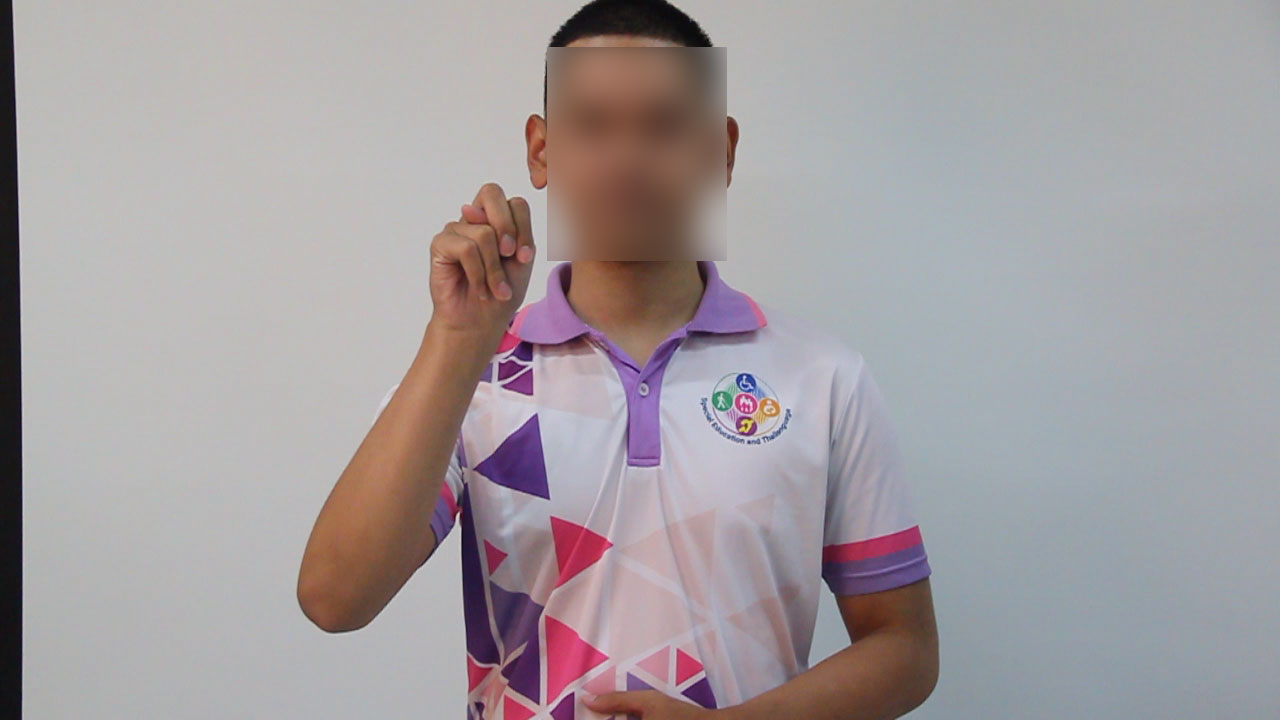nor: (416, 176, 546, 338)
